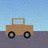vehicle: (6, 18, 33, 38)
